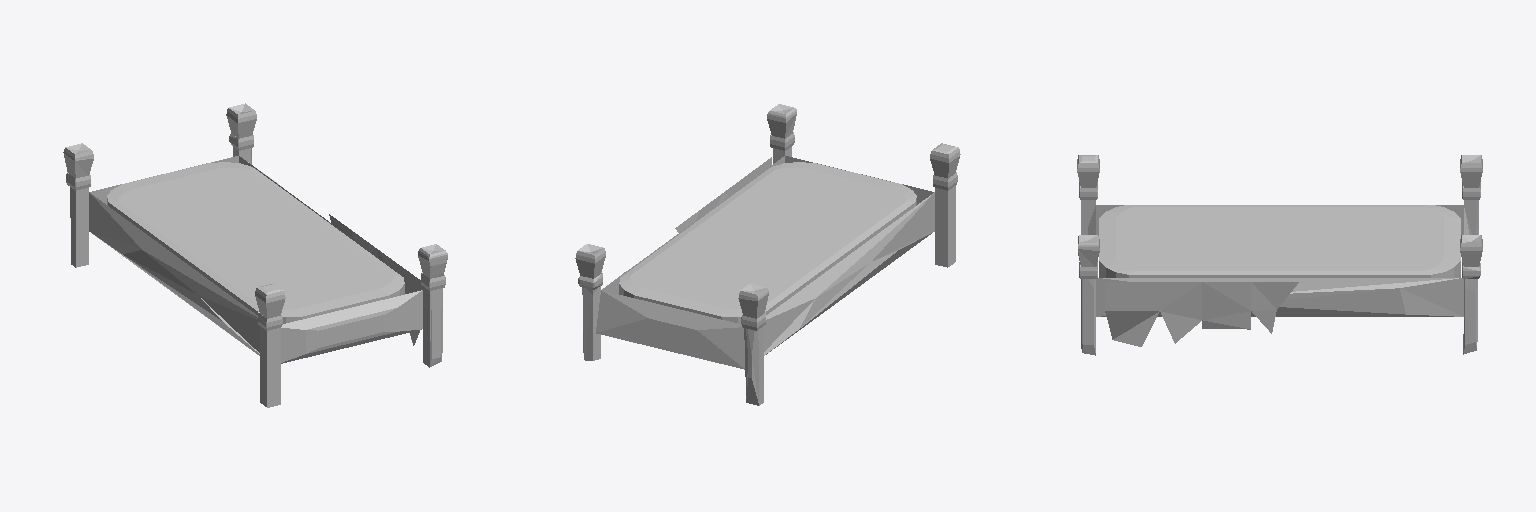
The model's file is cama.obj.
The picture shows the model from 3 angles: view 1: azimuth 30°, elevation 25°; view 2: azimuth 150°, elevation 25°; view 3: azimuth 270°, elevation 25°; orthographic projection.
Visible parts, largest first — view 1: Cama_1.001_Cube.001; view 2: Cama_1.001_Cube.001; view 3: Cama_1.001_Cube.001.
Boxes of the visible parts, x1,y1,x2,y2 form: Cama_1.001_Cube.001: [63, 103, 447, 407]; Cama_1.001_Cube.001: [575, 104, 960, 405]; Cama_1.001_Cube.001: [1077, 155, 1482, 355].
Bounding box in the file's own units: 2.36 × 1.42 × 4.54.